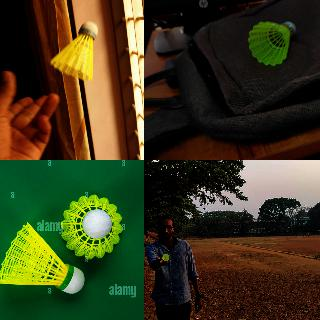shuttlecock: (0, 222, 85, 295), (61, 195, 123, 259), (50, 21, 98, 80), (248, 22, 294, 64), (161, 253, 169, 260)
